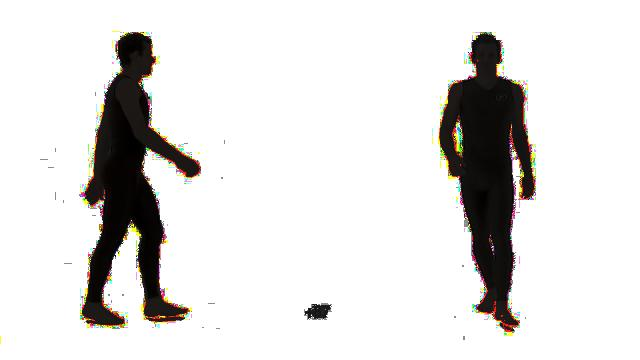berjalan: (78, 26, 200, 332), (439, 35, 537, 331)
